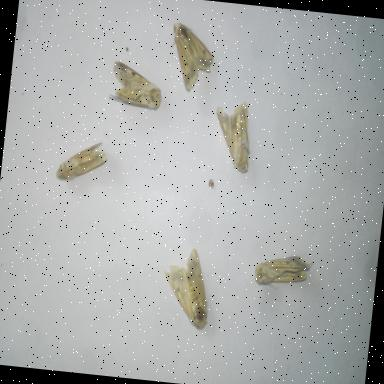abw: (156, 241, 218, 335), (162, 17, 222, 98), (208, 94, 260, 178), (104, 56, 168, 115), (52, 133, 113, 190), (250, 246, 318, 294)
